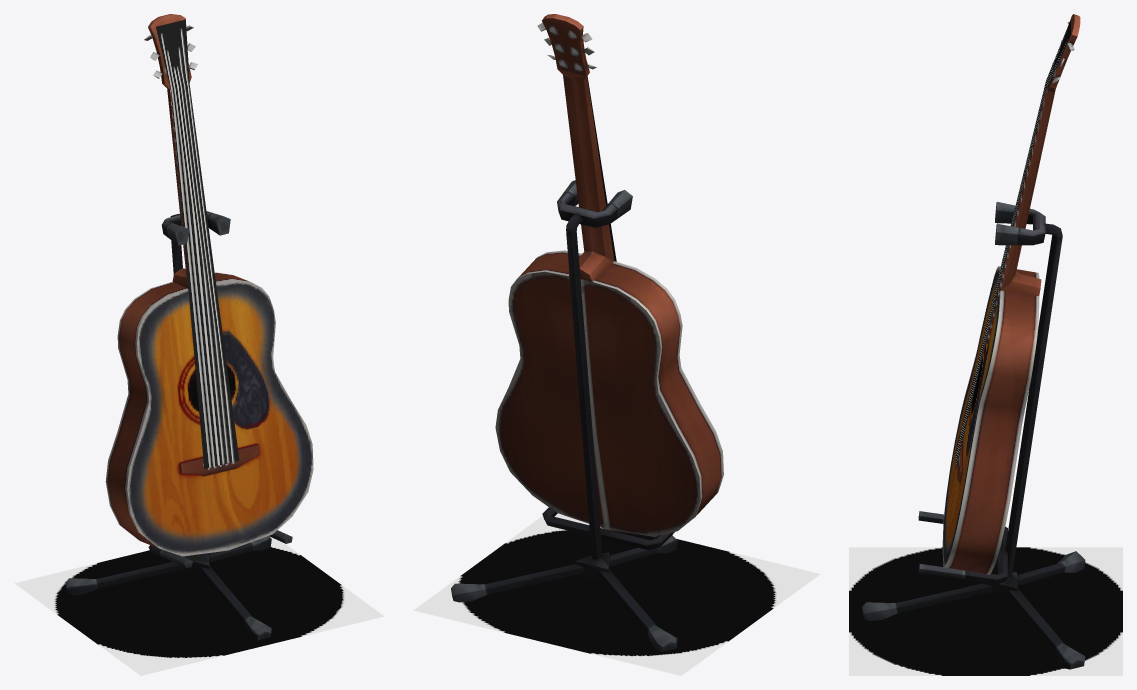
File: jj_ty_guita01_01.FBX
3 renders of one model, left to right at view 1: azimuth 30°, elevation 25°; view 2: azimuth 150°, elevation 25°; view 3: azimuth 270°, elevation 25°, orthographic. The views are drawn at different scales.
Visible parts, largest first — view 1: jj_ty_guita01_01, shadow; view 2: jj_ty_guita01_01, shadow; view 3: jj_ty_guita01_01, shadow.
Boxes of the visible parts, x1,y1,x2,y2 form: jj_ty_guita01_01: [65, 14, 313, 640]; shadow: [14, 536, 384, 675]; jj_ty_guita01_01: [451, 14, 723, 651]; shadow: [413, 513, 820, 675]; jj_ty_guita01_01: [862, 14, 1085, 669]; shadow: [849, 547, 1122, 675].
Size of the model in its own units: 17.38 by 37.82 by 15.62.
